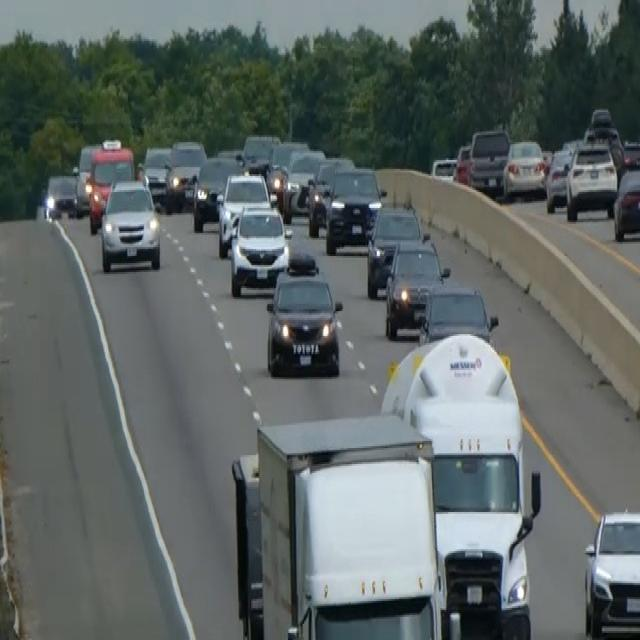car: (265, 256, 344, 377), (582, 507, 639, 638), (384, 236, 449, 338), (228, 201, 290, 297), (366, 201, 424, 297), (324, 164, 384, 254), (417, 281, 498, 347), (216, 169, 271, 256), (86, 139, 135, 233), (565, 137, 617, 220), (191, 153, 242, 231), (307, 154, 354, 236), (164, 138, 206, 212), (283, 146, 325, 217), (468, 126, 510, 192), (502, 137, 546, 199), (71, 142, 100, 215), (544, 142, 574, 212), (612, 164, 639, 240), (584, 122, 624, 172), (141, 144, 172, 206), (42, 170, 77, 218), (241, 130, 280, 172), (269, 139, 308, 174), (453, 140, 472, 185), (430, 154, 457, 180), (621, 137, 639, 169)
jeep: (98, 176, 163, 274)
lorry: (382, 329, 543, 638), (230, 411, 446, 638)
